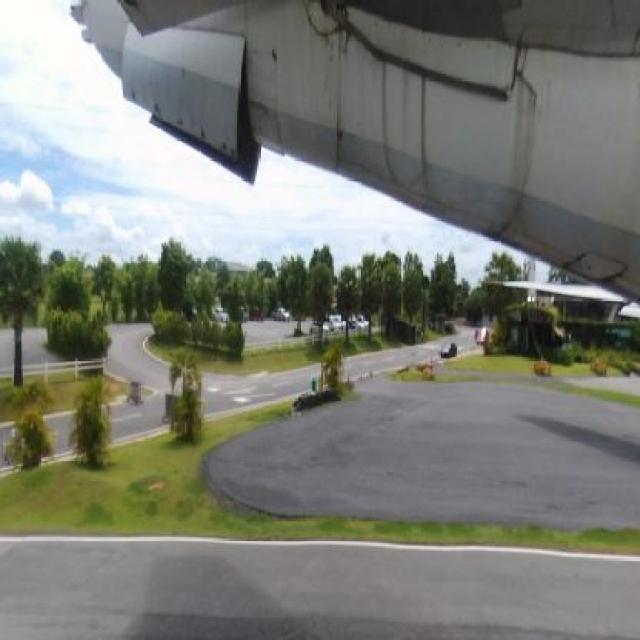Rust: (360, 41, 448, 196), (502, 52, 555, 252), (307, 4, 358, 162), (250, 26, 287, 105), (124, 77, 148, 114), (217, 138, 240, 168), (174, 108, 191, 140), (150, 90, 165, 122), (196, 116, 210, 147)
Scartch: (319, 20, 343, 109)
